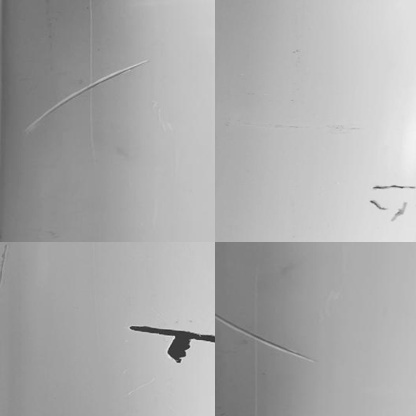fengxi: (129, 317, 216, 342), (367, 179, 410, 193), (369, 199, 384, 210)
kongdong: (168, 334, 191, 365)
sunshang: (29, 59, 143, 143), (220, 312, 316, 364)
